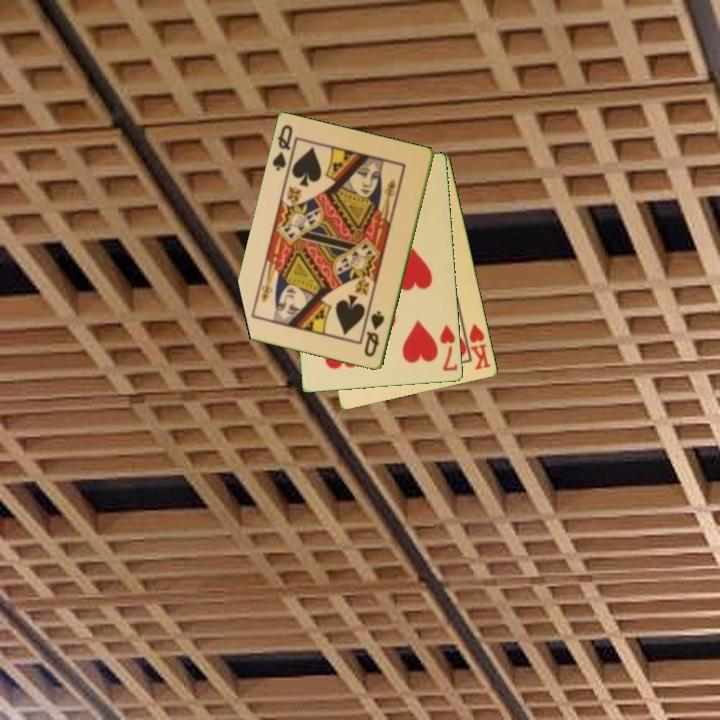7h: (437, 321, 461, 374)
Kh: (460, 319, 494, 373)
Qs: (269, 121, 299, 177), (361, 307, 388, 360)
